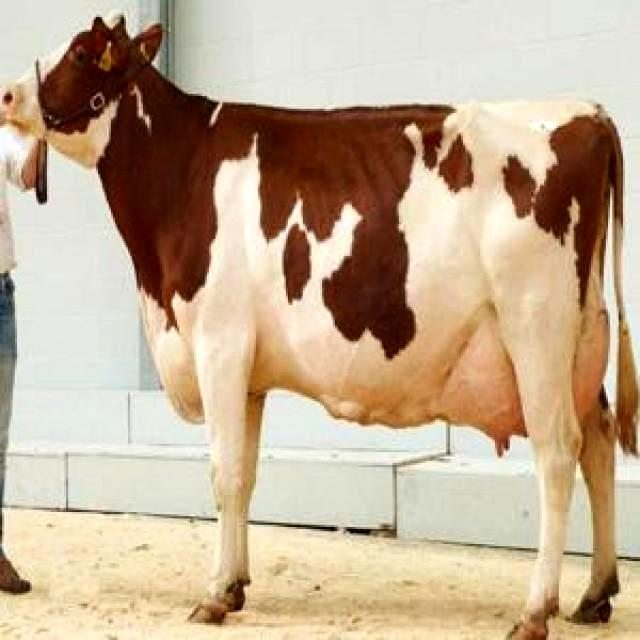COW: (4, 19, 640, 640)
